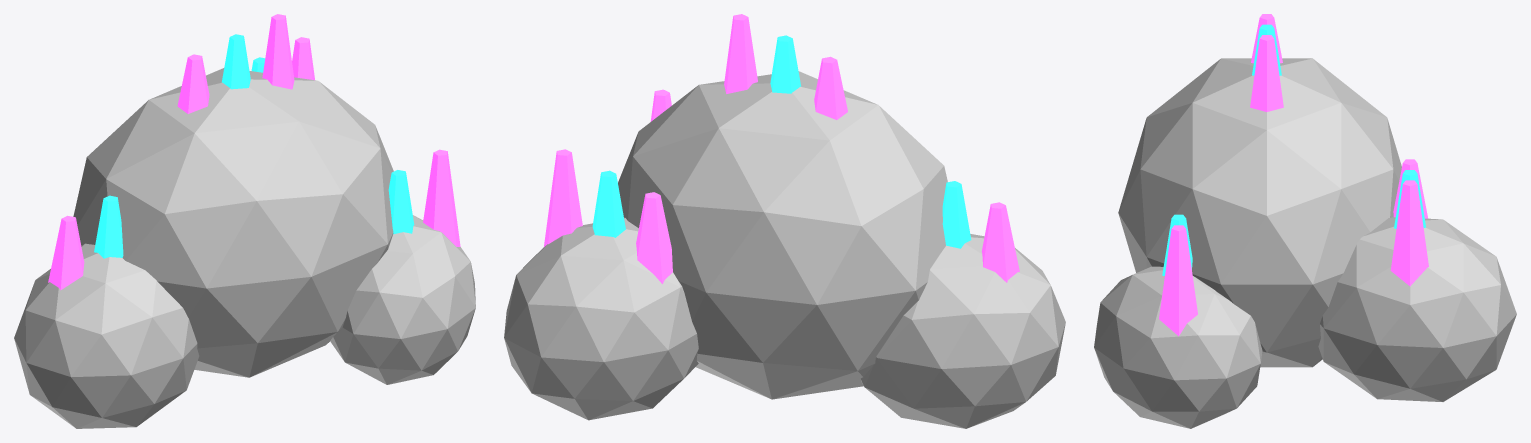
The picture shows the model from 3 angles, left to right: view 1: azimuth 30°, elevation 25°; view 2: azimuth 150°, elevation 25°; view 3: azimuth 270°, elevation 25°; orthographic projection. The views are drawn at different scales.
Visible parts, largest first — view 1: Neon_RockCluster_Showcase; view 2: Neon_RockCluster_Showcase; view 3: Neon_RockCluster_Showcase.
Boxes of the visible parts, left/top/right/bottom form: Neon_RockCluster_Showcase: left=14, top=14, right=475, bottom=428; Neon_RockCluster_Showcase: left=504, top=14, right=1065, bottom=428; Neon_RockCluster_Showcase: left=1094, top=14, right=1516, bottom=428.
Bounding box in the file's own units: 2.24 × 1.75 × 1.92.
